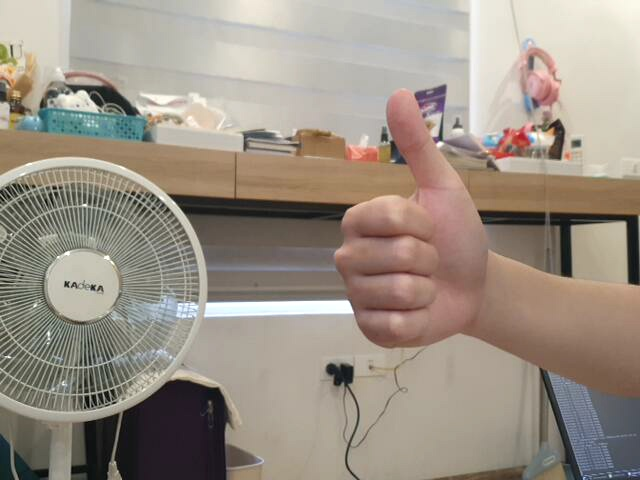ThumbsUp: (329, 85, 491, 353)
